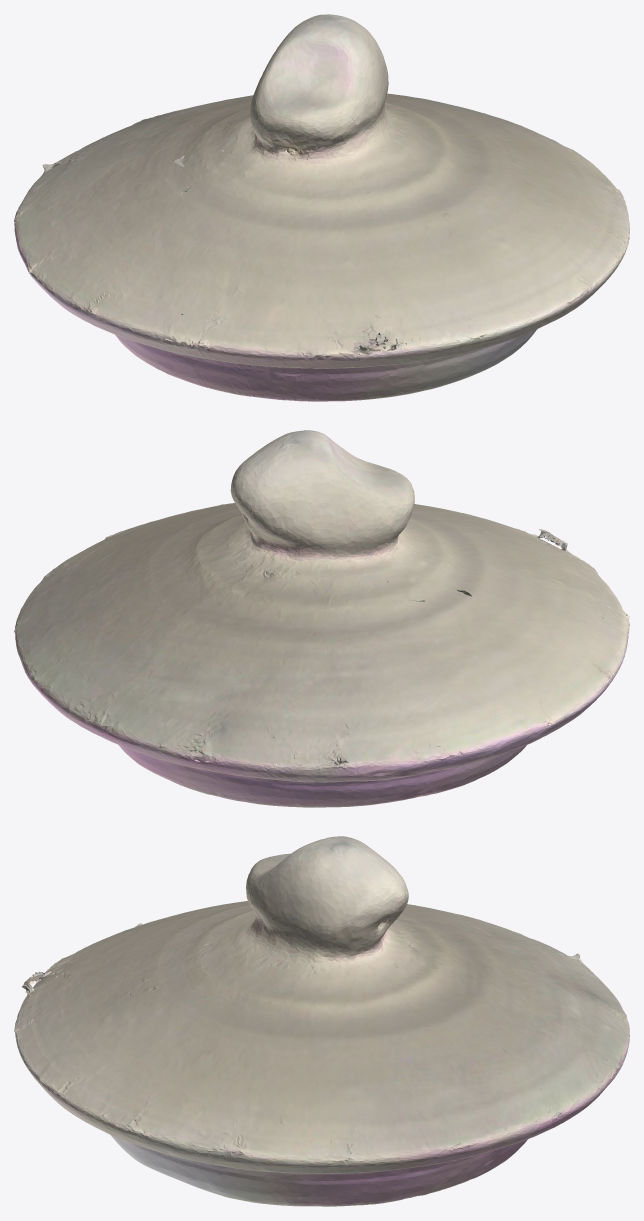
The model's file is teapotlid.gltf.
3 views of the same model, one above another, from view 1: azimuth 30°, elevation 25°; view 2: azimuth 150°, elevation 25°; view 3: azimuth 270°, elevation 25° (orthographic).
Parts seen in each view (by area): view 1: teapotlid; view 2: teapotlid; view 3: teapotlid.
Boxes of the visible parts, left/top/right/bottom form: teapotlid: left=14, top=14, right=629, bottom=401; teapotlid: left=14, top=430, right=629, bottom=807; teapotlid: left=14, top=836, right=629, bottom=1206.
Size of the model in its own units: 0.6755 by 0.347 by 0.6802.
1 material, 1 textured.
